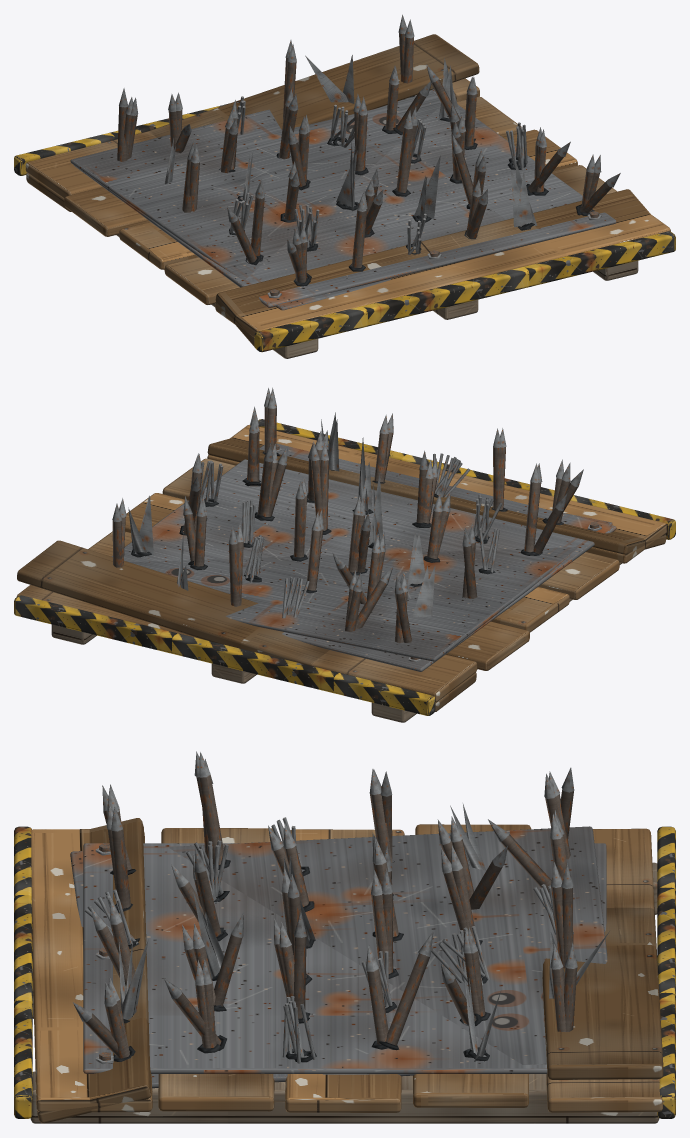
Rendered from SpikePlate.glb.
3 views of the same model, one above another, from view 1: azimuth 30°, elevation 25°; view 2: azimuth 150°, elevation 25°; view 3: azimuth 270°, elevation 25° (orthographic). The views are drawn at different scales.
Visible parts, largest first — view 1: Plate_damaged, Plate, Plank, Plank_broken, Hazard, Rust, Rust_damaged, Steel, Steel_damaged, Rust_broken, Steel_broken, GreyWood (+3 smaller); view 2: Plate_damaged, Plate, Plank, Plank_broken, Hazard, Rust_damaged, Rust, Steel_damaged, Steel, Rust_broken, Steel_broken, GreyWood (+3 smaller); view 3: Plate, Plate_damaged, Plank, Plank_broken, Rust, Hazard, GreyWood, Rust_broken, Rust_damaged, Steel, Steel_damaged, Steel_broken (+3 smaller).
Boxes of the visible parts, box(x1,y1,x2,y2) form: Plate_damaged: box(70, 90, 440, 310); Plate: box(74, 89, 616, 307); Plank: box(25, 78, 670, 337); Plank_broken: box(26, 34, 650, 347); Hazard: box(14, 103, 675, 352); Rust: box(124, 36, 599, 295); Rust_damaged: box(127, 32, 599, 282); Steel: box(125, 19, 601, 298); Steel_damaged: box(130, 14, 601, 252); Rust_broken: box(117, 79, 612, 280); Steel_broken: box(119, 55, 620, 254); GreyWood: box(116, 234, 638, 358); Plate_damaged: box(129, 513, 612, 661); Plate: box(111, 443, 616, 671); Plank: box(16, 424, 666, 702); Plank_broken: box(17, 438, 666, 711); Hazard: box(14, 419, 675, 715); Rust_damaged: box(112, 407, 570, 638); Rust: box(121, 408, 599, 659); Steel_damaged: box(112, 388, 570, 617); Steel: box(119, 389, 601, 662); Rust_broken: box(183, 405, 577, 642); Steel_broken: box(128, 387, 583, 594); GreyWood: box(51, 563, 621, 722); Plate: box(83, 843, 606, 1073); Plate_damaged: box(70, 826, 607, 1088); Plank: box(31, 824, 662, 1112); Plank_broken: box(37, 818, 663, 1123); Rust: box(99, 775, 570, 1060); Hazard: box(14, 826, 675, 1118); GreyWood: box(30, 862, 659, 1123); Rust_broken: box(84, 789, 573, 1056); Rust_damaged: box(96, 777, 577, 1058); Steel: box(95, 752, 573, 1064); Steel_damaged: box(90, 751, 577, 1057); Steel_broken: box(73, 759, 609, 1063).
Bounding box in the file's own units: 0.7922 × 0.2278 × 0.8.
28 materials, 24 textured.
